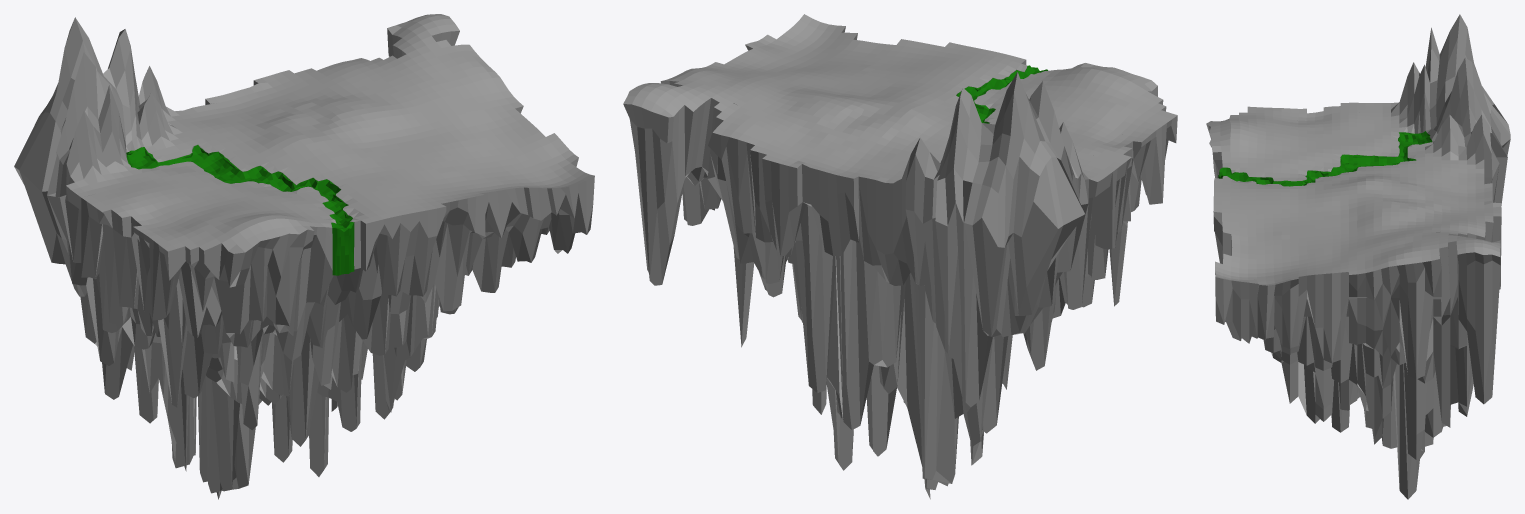
Rendered from IleDetruite 1.FBX.
3 renders of one model, left to right at view 1: azimuth 30°, elevation 25°; view 2: azimuth 150°, elevation 25°; view 3: azimuth 270°, elevation 25°, orthographic. The views are drawn at different scales.
Visible parts, largest first — view 1: ile hiver, Object007, Object012, Object002, Object009, Object005, Object010, Object003, Object011, Object008, Object001, Object004 (+1 smaller); view 2: ile hiver, Object003, Object001, Object002, Object007, Object012, Object010, Object005, Object011, Object008, Object009, Object006; view 3: ile hiver, Object002, Object007, Object001, Object005, Object003, Object008, Object012, Object004, Object009, Object010, Object006 (+1 smaller).
Part boxes in pixels (x1,y1,x2,y2): ile hiver: (14,17,448,499); Object007: (403,101,569,314); Object012: (81,188,234,397); Object002: (331,44,518,411); Object009: (360,192,446,314); Object005: (316,94,480,400); Object010: (133,224,206,337); Object003: (205,57,387,173); Object011: (131,207,199,407); Object008: (543,150,594,253); Object001: (380,14,459,71); Object004: (315,135,364,431); ile hiver: (806,60,1163,499); Object003: (708,107,858,392); Object001: (623,81,740,285); Object002: (660,65,859,414); Object007: (711,32,950,76); Object012: (1055,93,1132,307); Object010: (1120,103,1177,211); Object005: (754,69,889,134); Object011: (1091,112,1133,306); Object008: (758,14,845,48); Object009: (940,42,1026,95); Object006: (902,83,955,113); ile hiver: (1206,14,1510,499); Object002: (1348,201,1450,459); Object007: (1222,205,1357,370); Object001: (1421,230,1500,404); Object005: (1290,193,1442,434); Object003: (1433,183,1501,406); Object008: (1215,261,1275,343); Object012: (1256,102,1374,181); Object004: (1315,185,1365,432); Object009: (1213,178,1255,263); Object010: (1239,106,1306,120); Object006: (1298,178,1348,203).
Bounding box in the file's own units: 1945 × 2079 × 1422.
